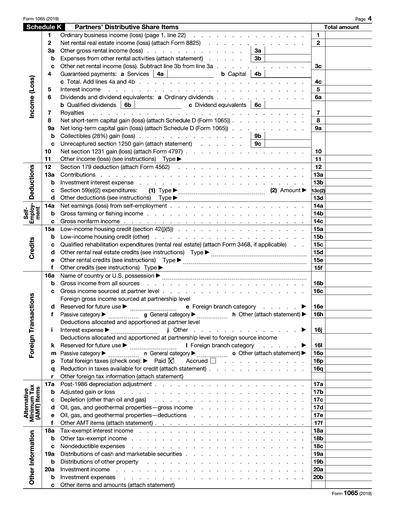filled checkbox: (168, 357, 174, 364)
unfilled checkbox: (210, 357, 216, 363)
